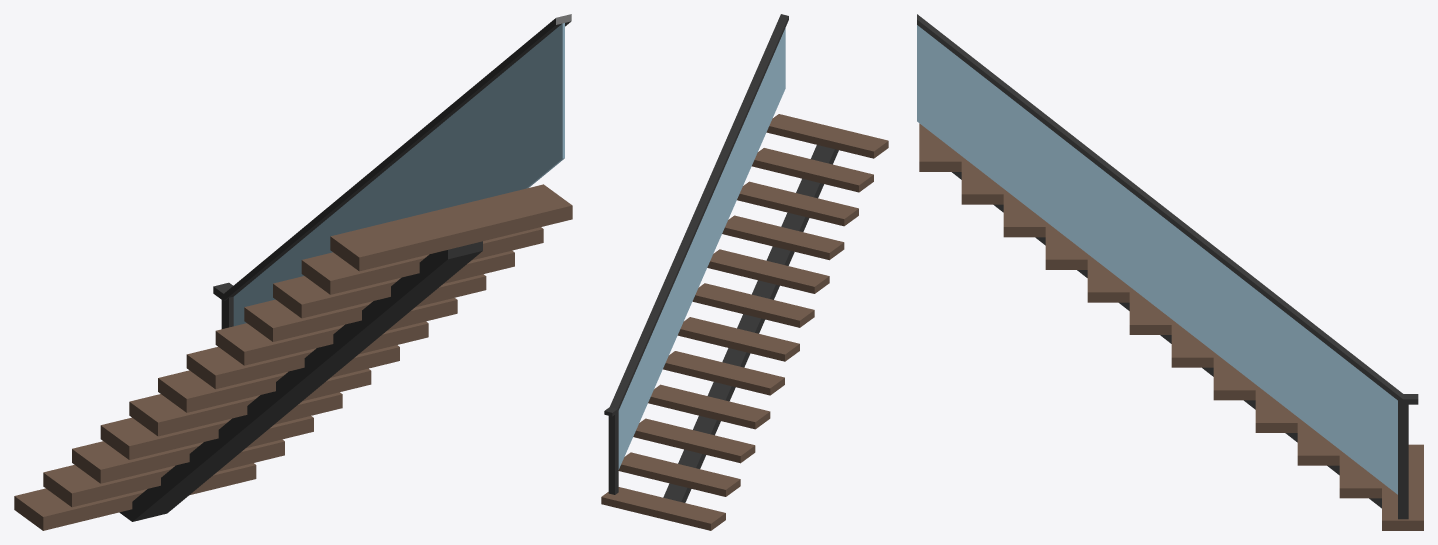
Rendered from Stairs3_C4.fbx.
3 renders of one model, left to right at view 1: azimuth 30°, elevation 25°; view 2: azimuth 150°, elevation 25°; view 3: azimuth 270°, elevation 25°, orthographic. The views are drawn at different scales.
Parts seen in each view (by area): view 1: Stairs3_C4; view 2: Stairs3_C4; view 3: Stairs3_C4.
Part boxes in pixels (left/top/right/bottom): Stairs3_C4: left=14, top=14, right=572, bottom=530; Stairs3_C4: left=601, top=14, right=888, bottom=530; Stairs3_C4: left=917, top=14, right=1423, bottom=530.
Bounding box in the file's own units: 1.25 × 3.98 × 3.52.
